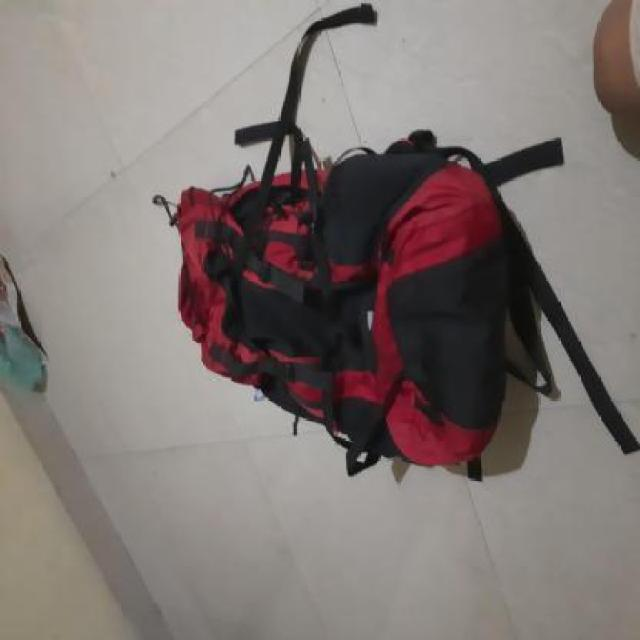backpack: (151, 117, 529, 486)
